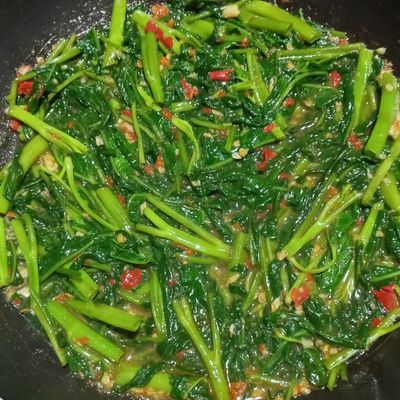buah_sayur_lainnya: (61, 55, 354, 343)
